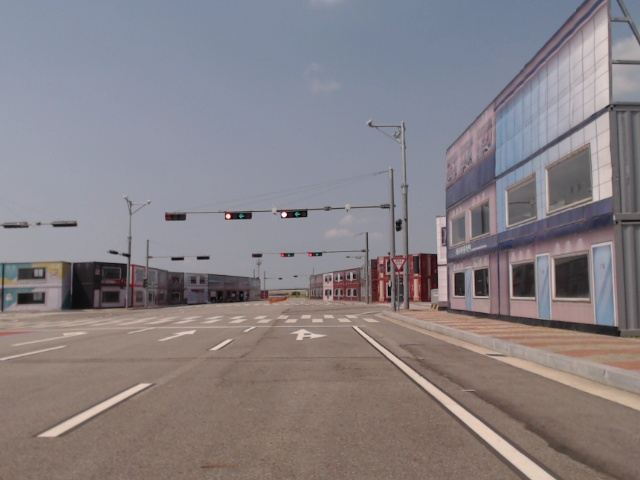left_green_4: (282, 211, 308, 219), (225, 212, 252, 219), (282, 252, 294, 257), (309, 252, 323, 256)
